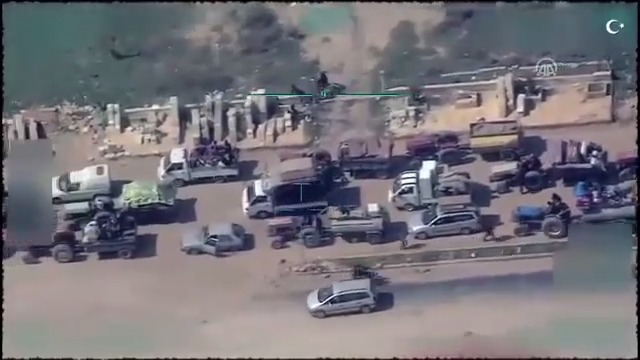arac: (485, 134, 625, 194), (402, 113, 542, 166), (265, 197, 389, 250), (56, 178, 189, 226), (510, 190, 640, 238), (241, 162, 345, 217), (388, 157, 484, 208), (158, 137, 251, 186), (305, 275, 384, 318), (178, 218, 258, 260), (406, 198, 486, 240), (47, 162, 121, 204)
